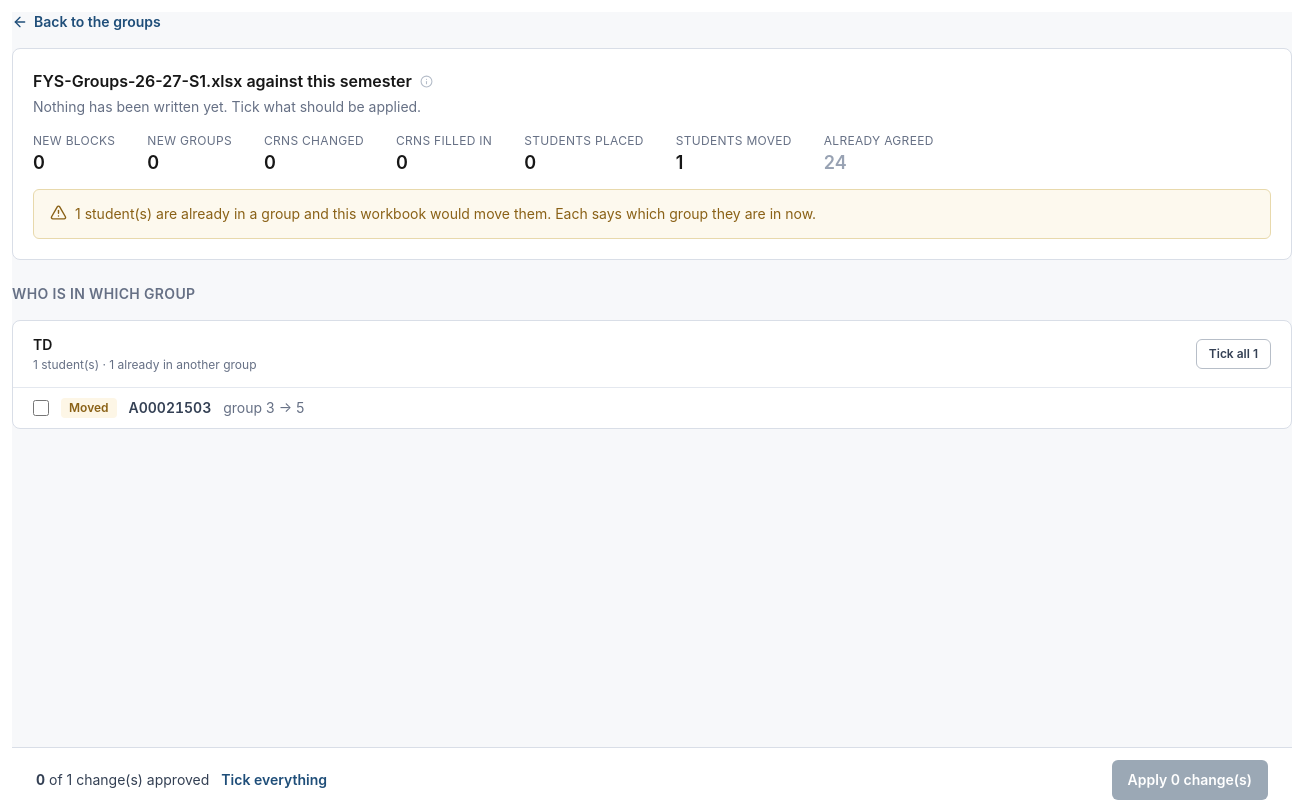
Test: reviewing a workbook › keeps the count of students who would change group in front of the coordinator
Click the checkbox named "Approve A00021503". click: [41, 408]
box: x1=33 y1=400 x2=49 y2=416
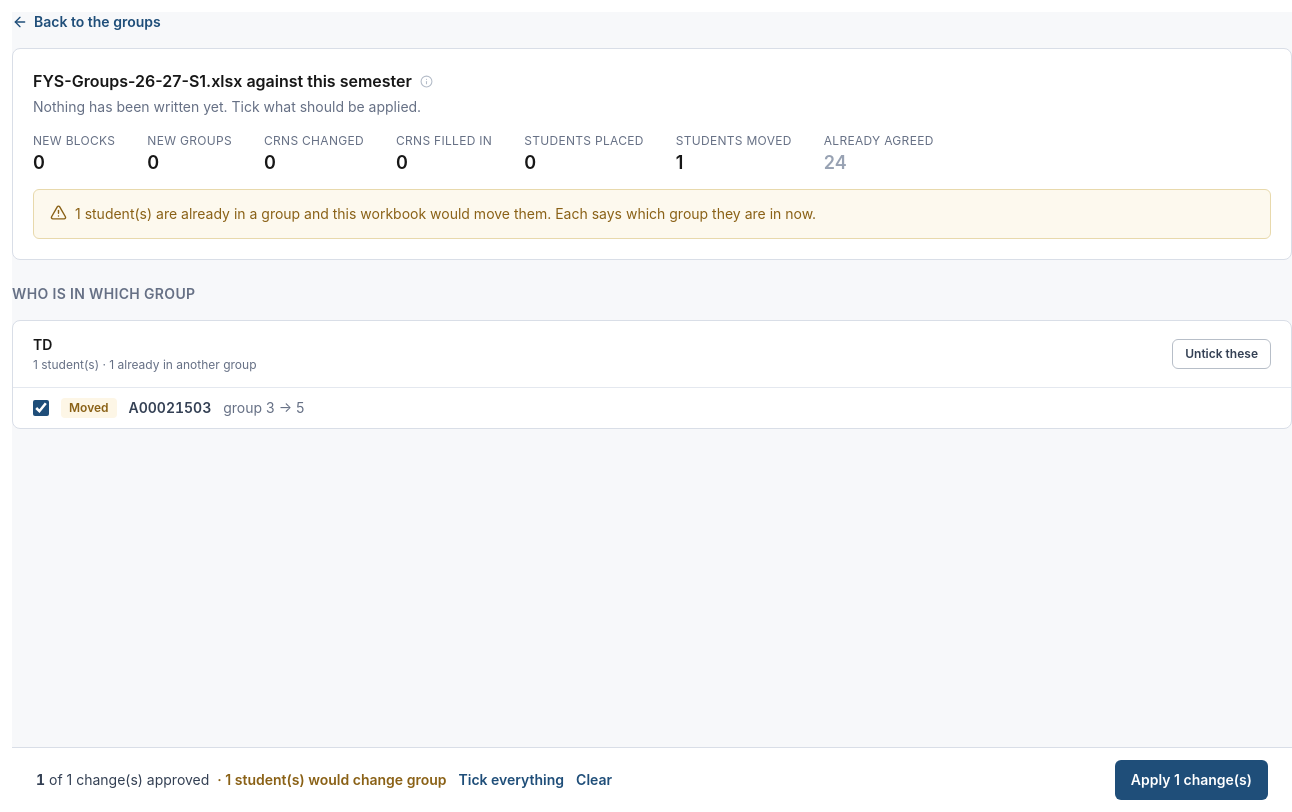
Now the text "· 1 student(s) would change group" is shown, box x1=217 y1=771 x2=446 y2=788
